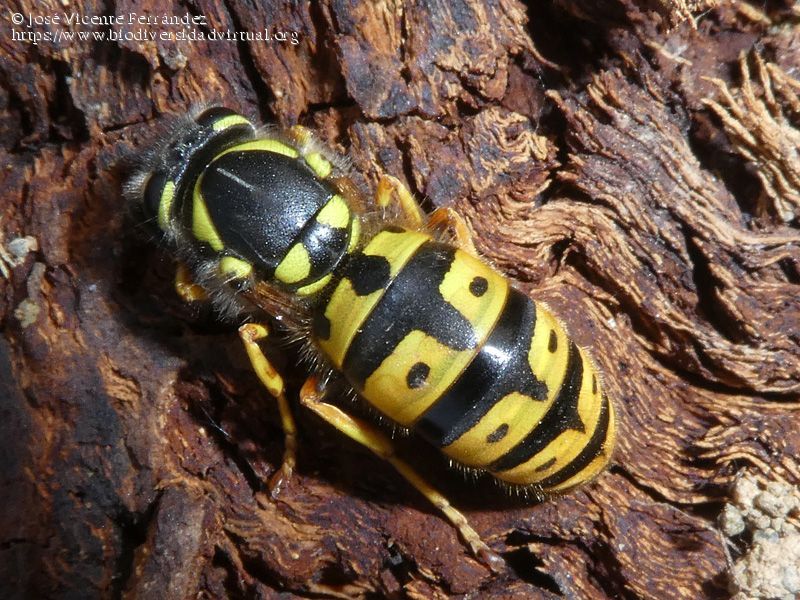chax: (91, 87, 654, 561)
